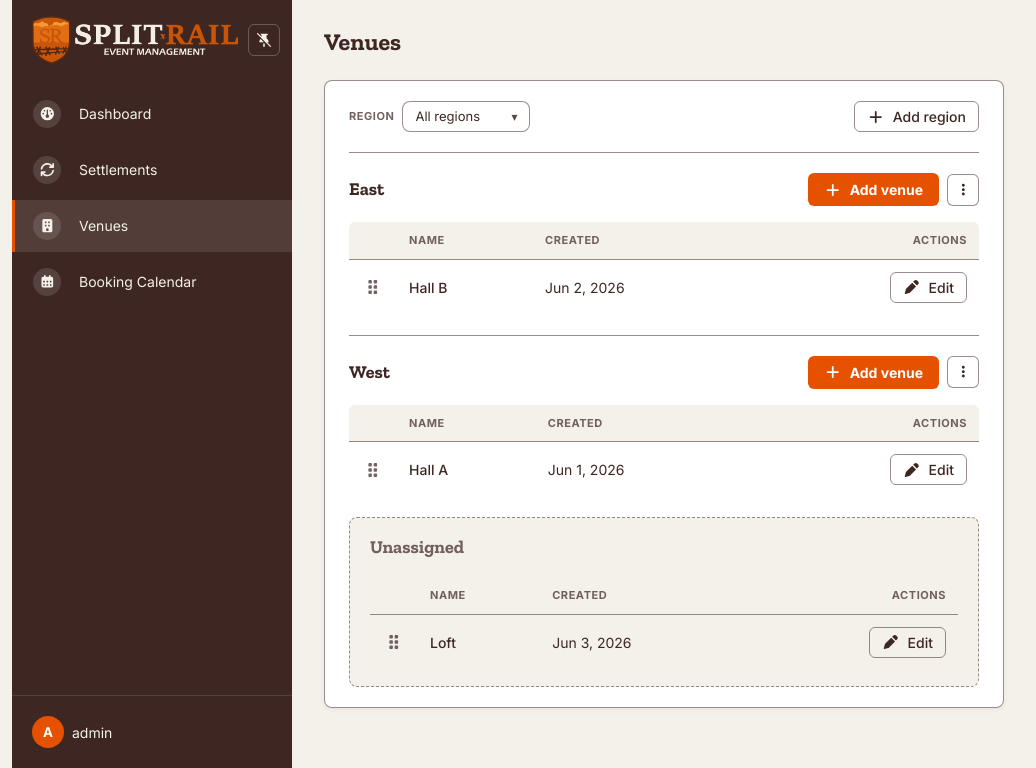
VenuesPage › filters venues by region
Click the button with test id "venues-region-filter" at (466, 116), box [402,101,530,132]
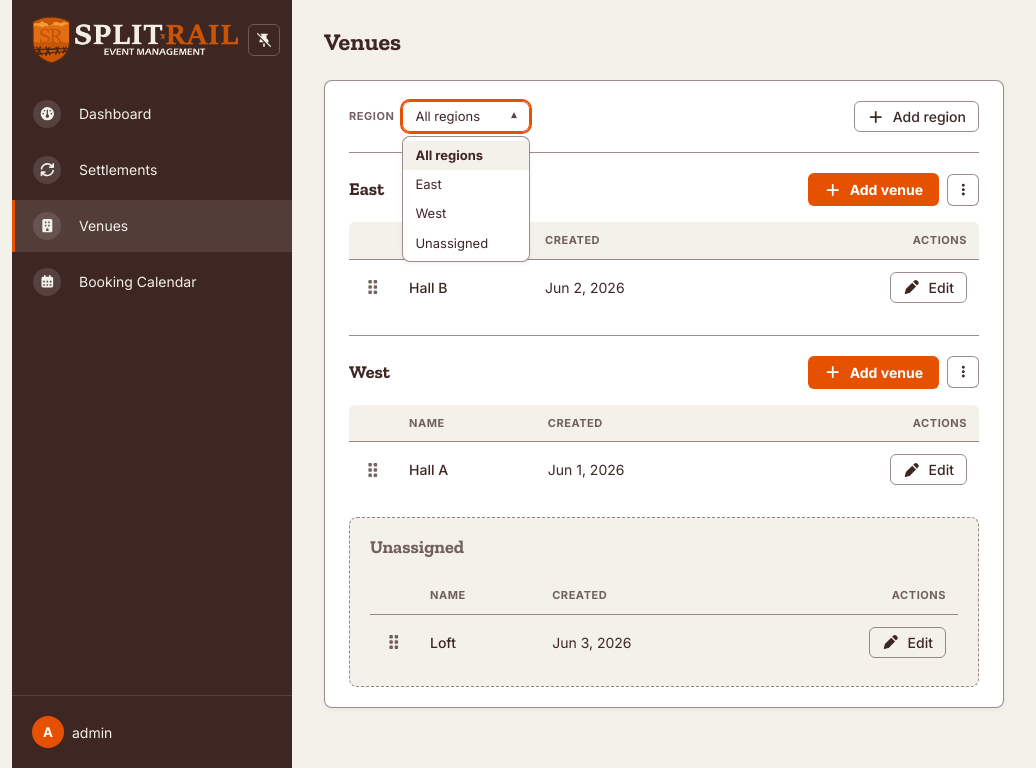
Click the option "West" at (466, 214), box [403,199,529,228]
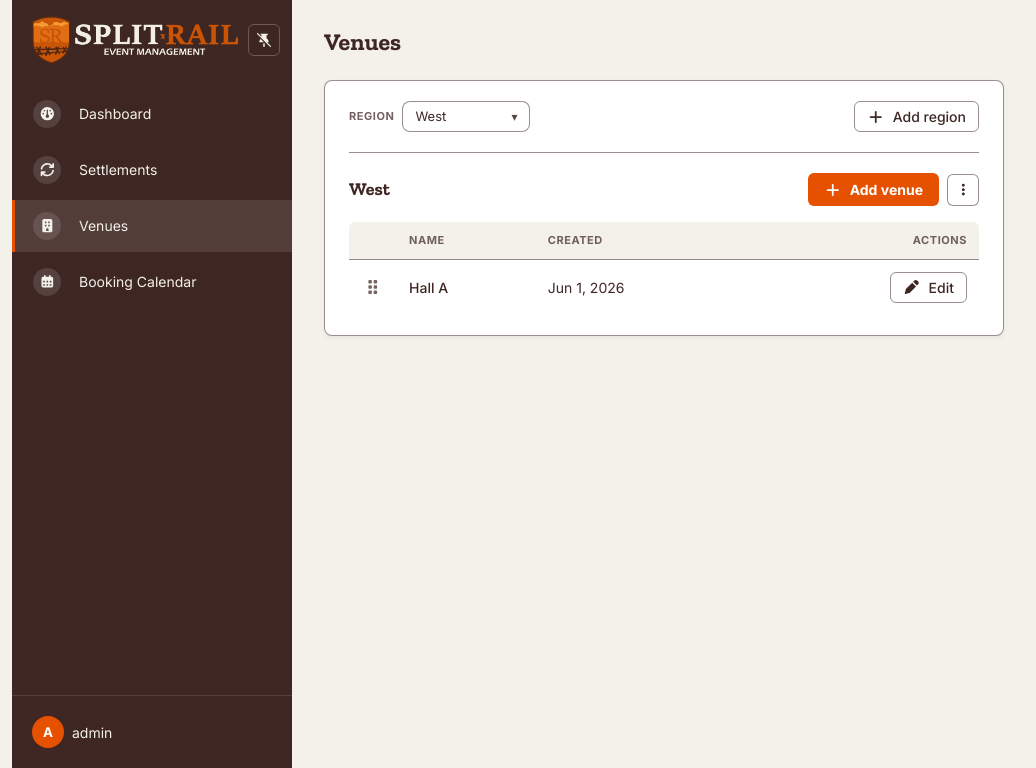
Expected: the text "Hall A" is shown, [409,278,448,296]
Result: the text "Hall B" is gone
Result: the text "Loft" is gone
